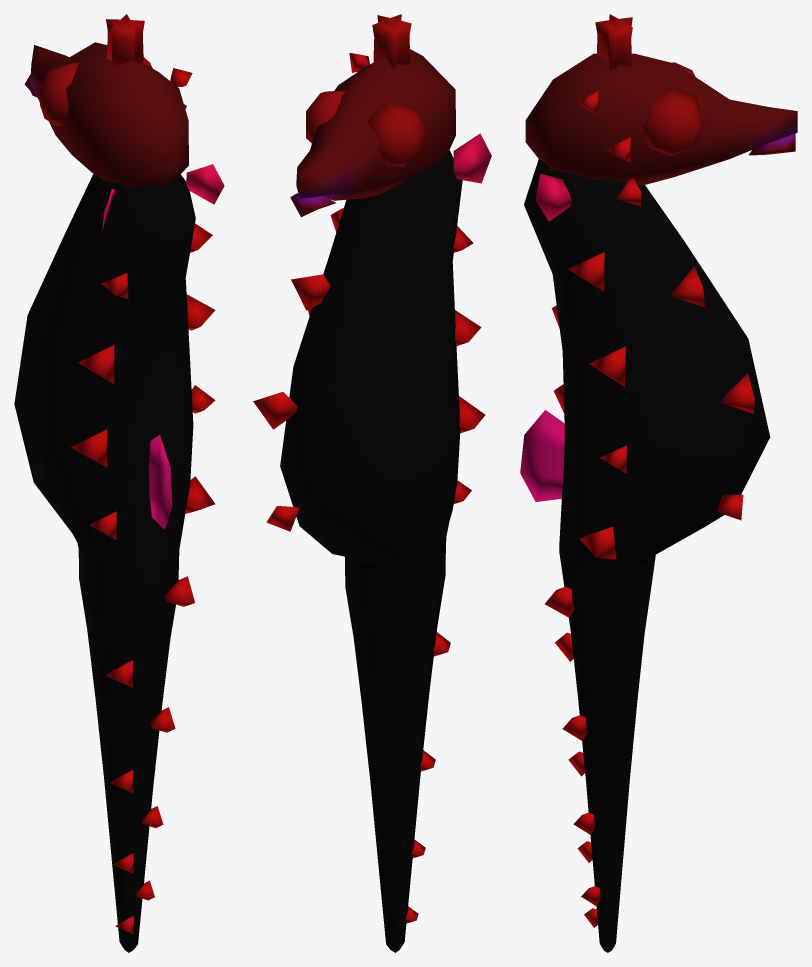
The model's file is seahorse_pygmy_lo.glb.
3 renders of one model, left to right at view 1: azimuth 30°, elevation 25°; view 2: azimuth 150°, elevation 25°; view 3: azimuth 270°, elevation 25°, orthographic.
Visible parts, largest first — view 1: seahorse_pygmy_lo; view 2: seahorse_pygmy_lo; view 3: seahorse_pygmy_lo.
Part boxes in pixels (x1,y1,x2,y2): seahorse_pygmy_lo: (14,14,224,952); seahorse_pygmy_lo: (253,14,491,952); seahorse_pygmy_lo: (520,14,797,952).
Size of the model in its own units: 0.0273 by 0.15 by 0.0406.
